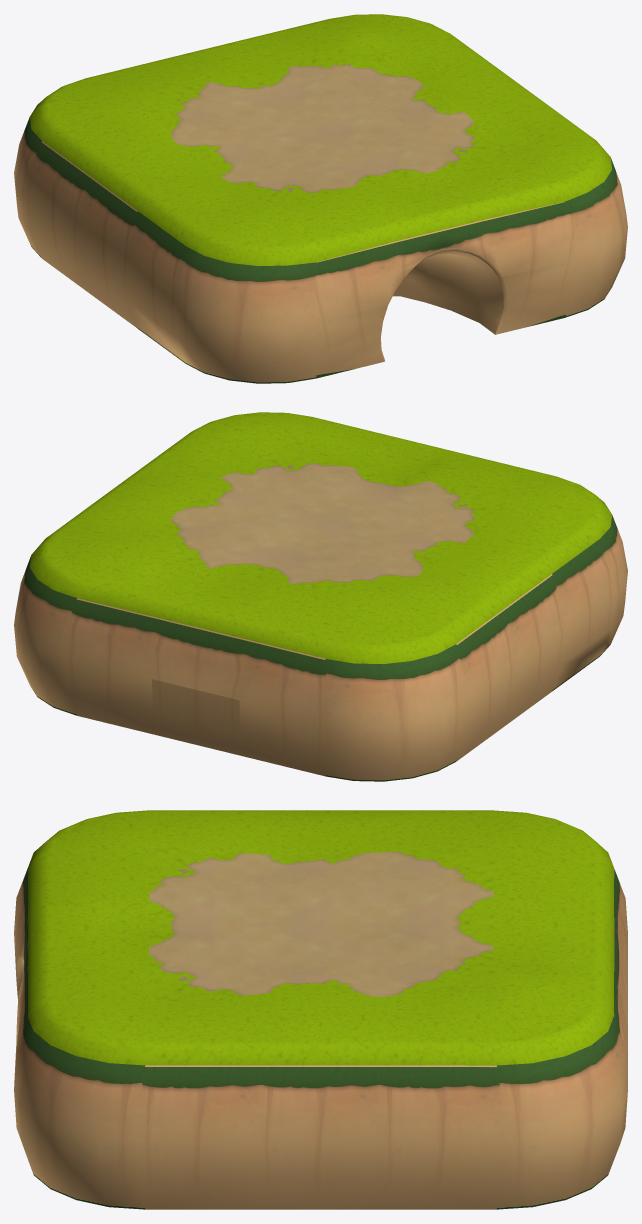
Rendered from Door1030_36.fbx.
The picture shows the model from 3 angles, top to bottom: view 1: azimuth 30°, elevation 25°; view 2: azimuth 150°, elevation 25°; view 3: azimuth 270°, elevation 25°; orthographic projection. The views are drawn at different scales.
Parts seen in each view (by area): view 1: TM_Grass_BasicCube01.328, Object010; view 2: TM_Grass_BasicCube01.328; view 3: TM_Grass_BasicCube01.328.
Part boxes in pixels (x1,y1,x2,y2): TM_Grass_BasicCube01.328: (14,14,627,383); Object010: (393,251,503,334); TM_Grass_BasicCube01.328: (14,412,627,781); TM_Grass_BasicCube01.328: (14,810,627,1209).
Size of the model in its own units: 21.17 by 6.44 by 20.96.
